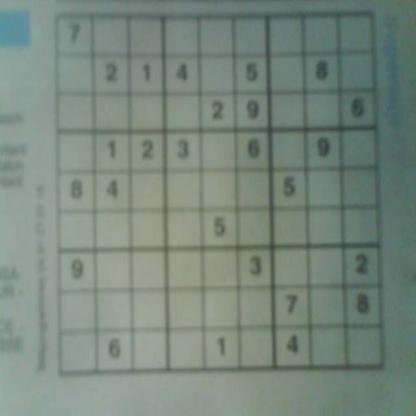sudoku: (50, 5, 388, 382)
